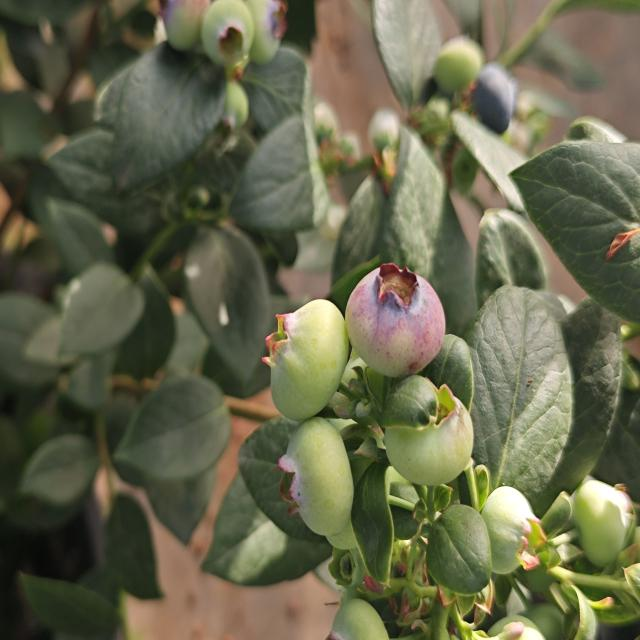ripe: (476, 63, 524, 132)
